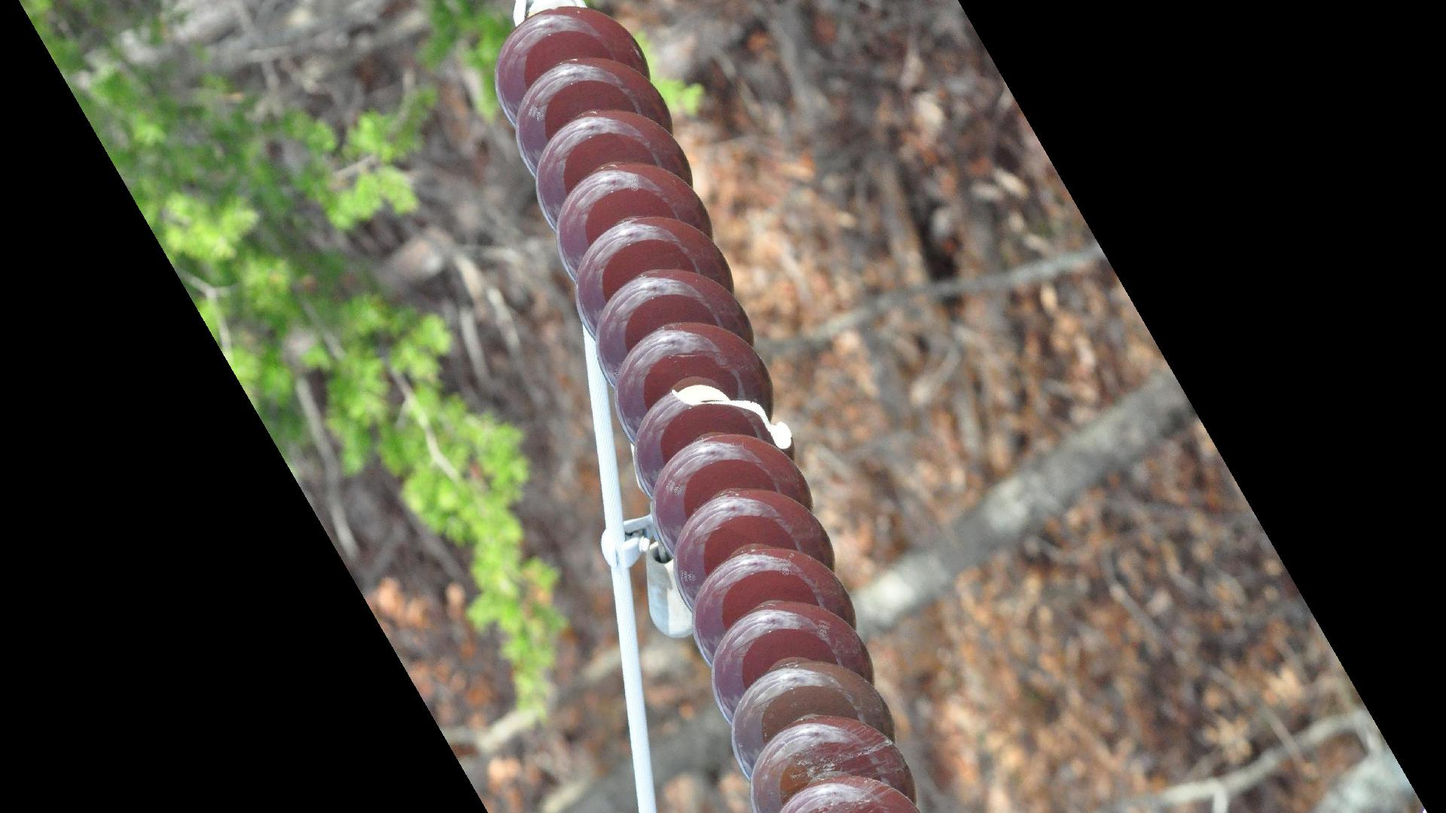insulator: (487, 1, 926, 813)
insulator_breakage: (654, 376, 809, 464)
